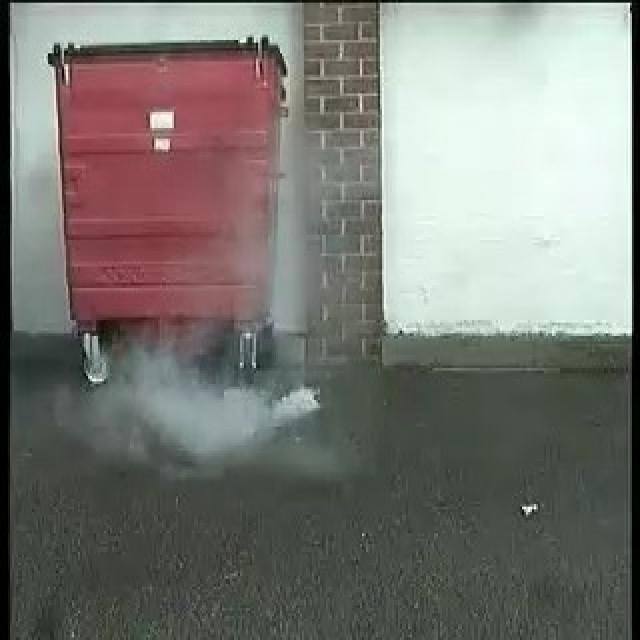smoke: (110, 316, 330, 461)
